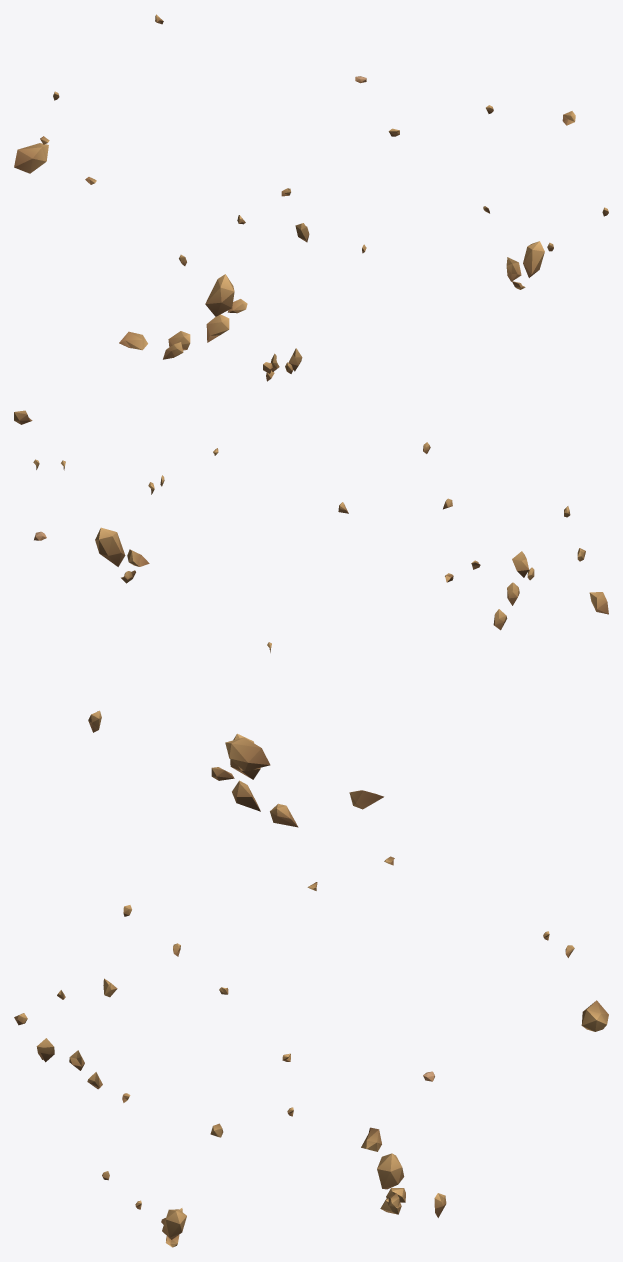
The model's file is floatingRocks.glb.
The picture shows the model from 3 angles, top to bottom: view 1: azimuth 30°, elevation 25°; view 2: azimuth 150°, elevation 25°; view 3: azimuth 270°, elevation 25°; orthographic projection. The views are drawn at different scales.
Visible parts, largest first — view 1: Icosphere.008, Icosphere.081, Icosphere.010; view 2: Icosphere.081, Icosphere.010; view 3: Icosphere.008, Icosphere.081, Icosphere.010.
Boxes of the visible parts, <box> form: Icosphere.008: <box>205,274,234,316</box>; Icosphere.081: <box>14,143,48,173</box>; Icosphere.010: <box>523,241,544,277</box>; Icosphere.081: <box>225,737,270,771</box>; Icosphere.010: <box>95,527,125,566</box>; Icosphere.008: <box>377,1153,404,1189</box>; Icosphere.081: <box>581,1000,608,1031</box>; Icosphere.010: <box>162,1209,186,1239</box>.
Size of the model in its own units: 73.71 by 40.13 by 75.14.
2 materials, 2 textured.
